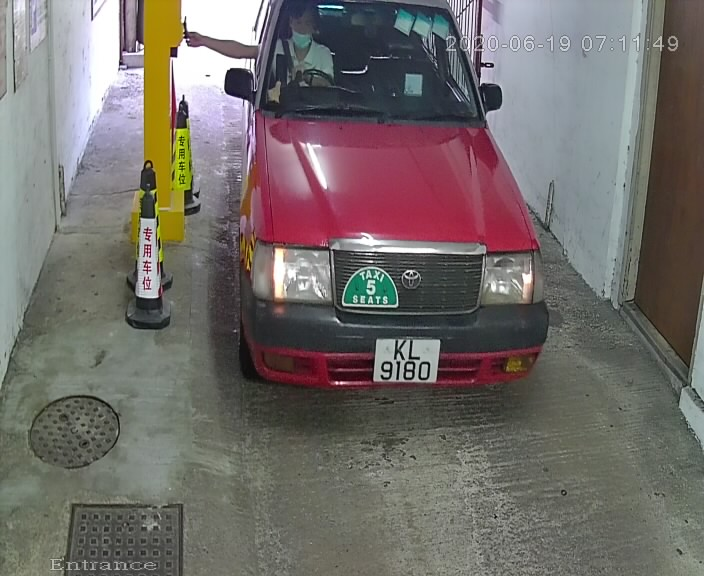taxi: (217, 2, 559, 408)
taxi_mark: (342, 262, 404, 319)
